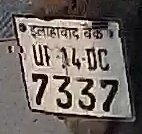1: (59, 45, 69, 70)
3: (52, 73, 74, 111), (74, 75, 97, 110)
4: (70, 47, 81, 70)
7: (97, 75, 121, 115), (29, 70, 49, 108)
C: (96, 46, 111, 73)
D: (86, 45, 97, 73)
P: (42, 44, 55, 68)
U: (29, 42, 44, 66)
